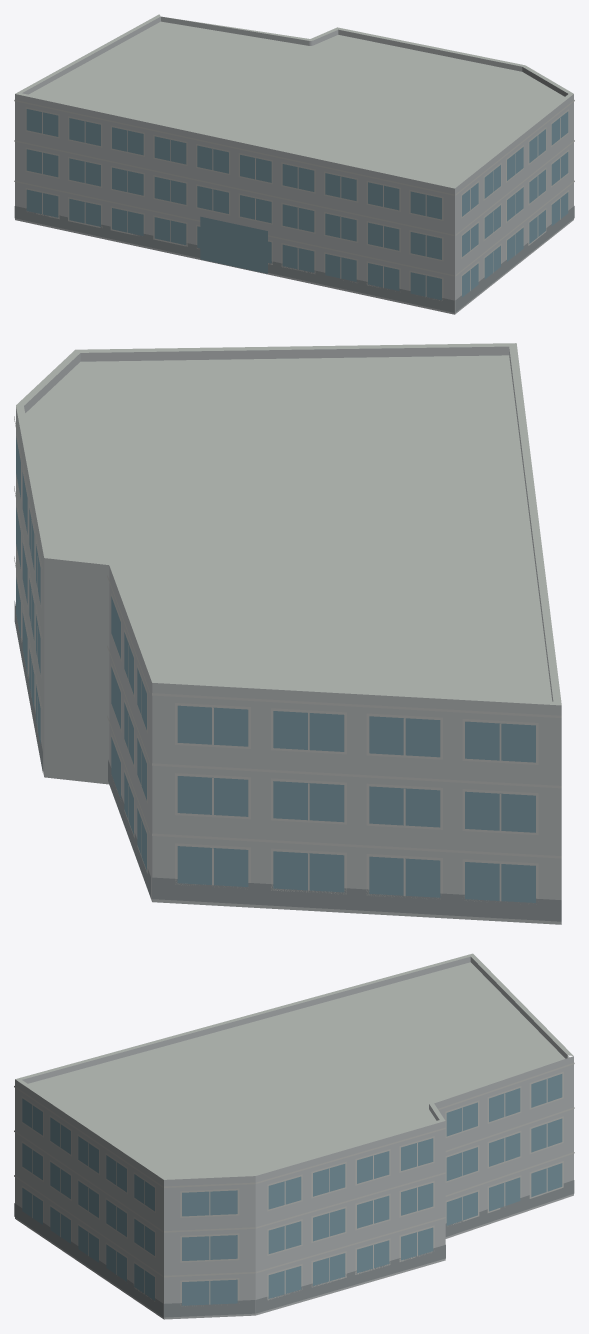
The model's file is public-7724a8af-0239-4e3b-931f-47f5950722ad.glb.
3 views of the same model, one above another, from view 1: azimuth 30°, elevation 25°; view 2: azimuth 150°, elevation 25°; view 3: azimuth 270°, elevation 25° (orthographic). The views are drawn at different scales.
Visible parts, largest first — view 1: public-7724a8af-0239-4e3b-931f-47f5950722ad; view 2: public-7724a8af-0239-4e3b-931f-47f5950722ad; view 3: public-7724a8af-0239-4e3b-931f-47f5950722ad.
Boxes of the visible parts, x1,y1,x2,y2 form: public-7724a8af-0239-4e3b-931f-47f5950722ad: (14, 14, 574, 314); public-7724a8af-0239-4e3b-931f-47f5950722ad: (14, 343, 561, 924); public-7724a8af-0239-4e3b-931f-47f5950722ad: (14, 953, 574, 1319).
Size of the model in its own units: 31.97 by 9.15 by 33.33.
